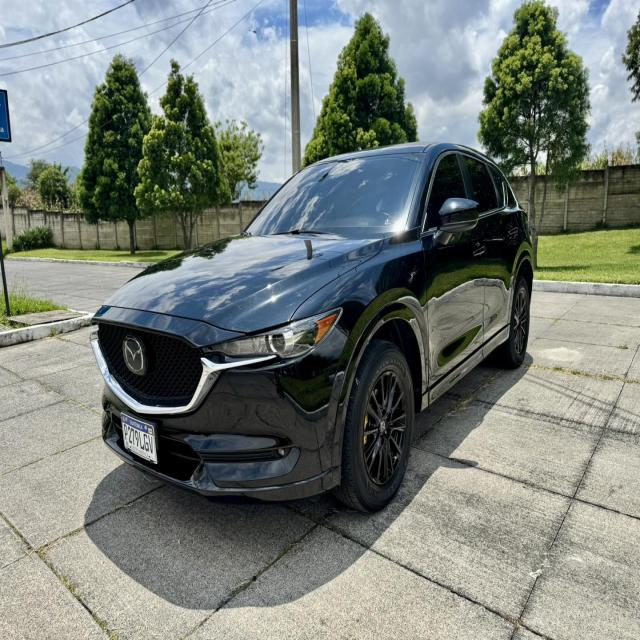Placas: (117, 407, 163, 470)
